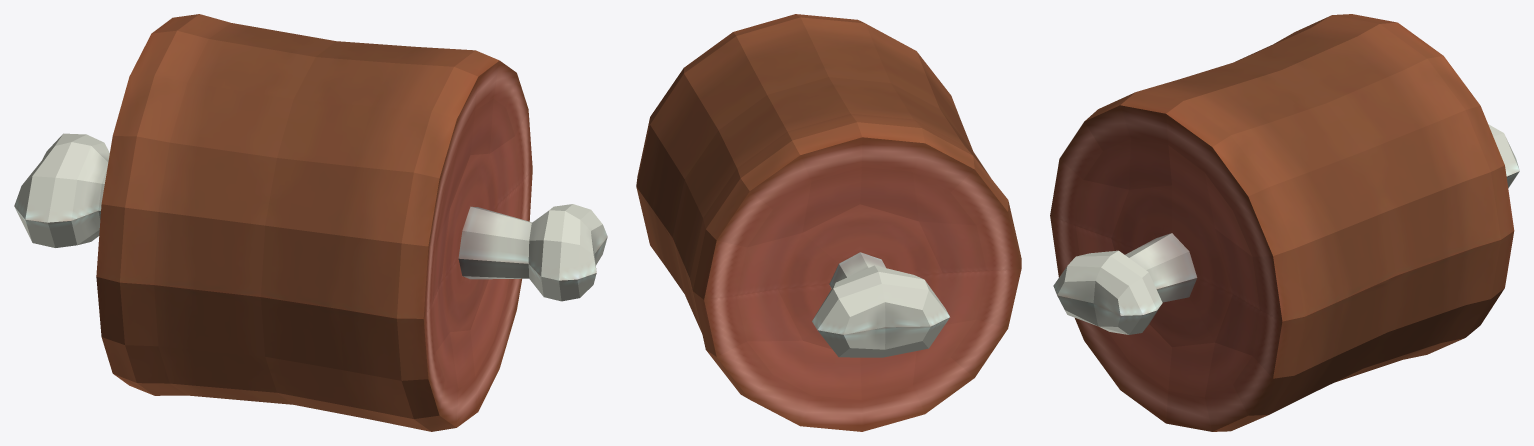
The model's file is Rou_2.fbx.
3 renders of one model, left to right at view 1: azimuth 30°, elevation 25°; view 2: azimuth 150°, elevation 25°; view 3: azimuth 270°, elevation 25°, orthographic. The views are drawn at different scales.
Visible parts, largest first — view 1: 对象002; view 2: 对象002; view 3: 对象002.
Part boxes in pixels (x1,y1,x2,y2): 对象002: (14, 14, 607, 431); 对象002: (636, 14, 1021, 431); 对象002: (1050, 14, 1519, 431).
Size of the model in its own units: 3.55 by 2.71 by 3.58.
